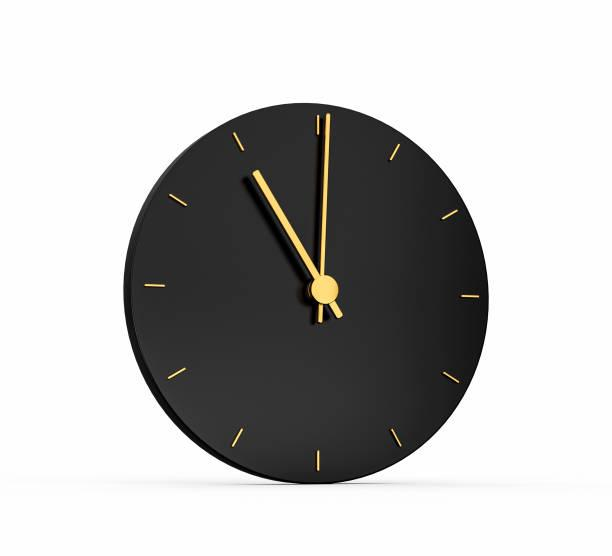clock: (85, 87, 543, 543)
